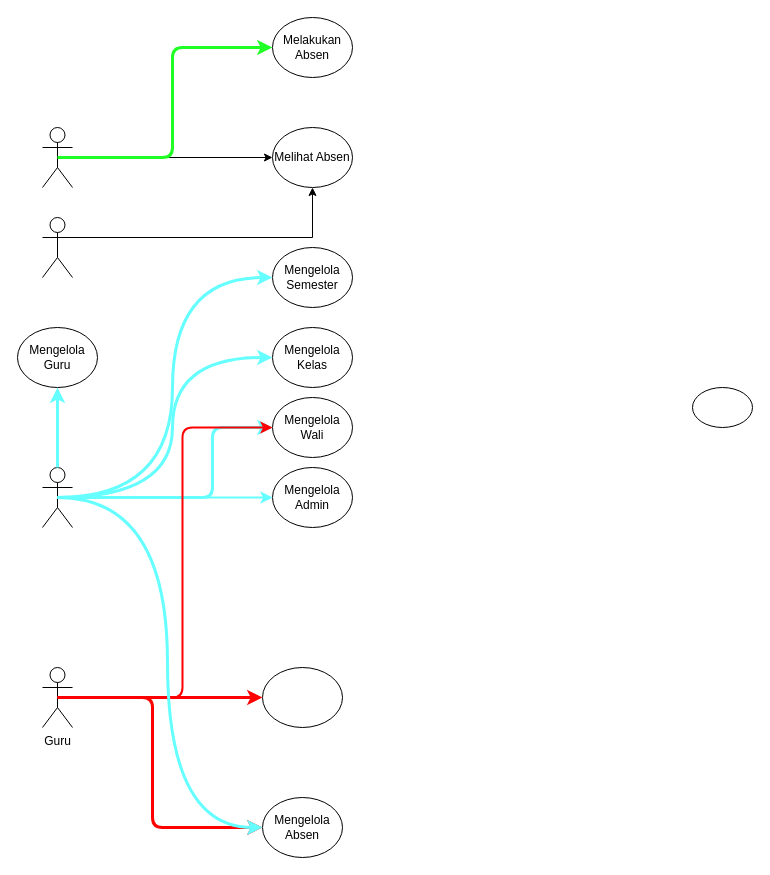
This 770x875 diagram has some shape labels left out. Here are the shapes that lost their labels. From the top down, the box of each, then its label:
(42, 126, 72, 188): Siswa
(42, 216, 72, 278): Wali
(692, 386, 752, 428): Login
(42, 466, 72, 528): Admin
(262, 666, 342, 728): Mengelola Siswa
